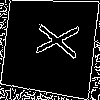X: (24, 21, 80, 59)
